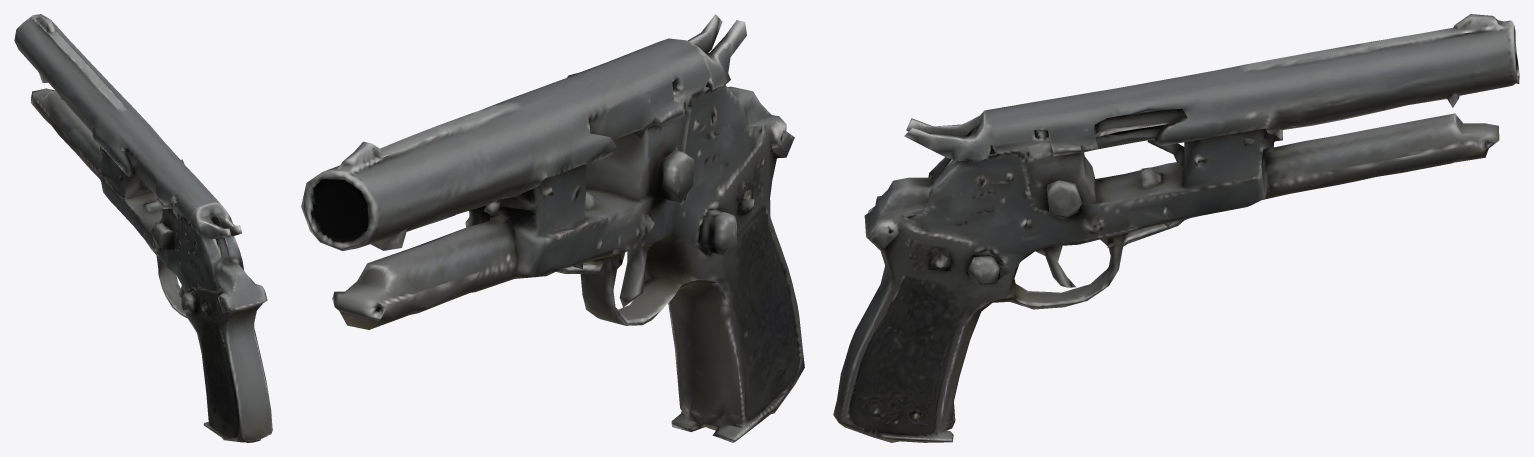
Rendered from gun_body_pistol.2a7234b27b.glb.
The picture shows the model from 3 angles, left to right: view 1: azimuth 30°, elevation 25°; view 2: azimuth 150°, elevation 25°; view 3: azimuth 270°, elevation 25°; orthographic projection. The views are drawn at different scales.
Parts seen in each view (by area): view 1: gun_body_pistol; view 2: gun_body_pistol; view 3: gun_body_pistol.
Boxes of the visible parts, x1=… form: gun_body_pistol: x1=14, y1=14, x2=272, y2=442; gun_body_pistol: x1=301, y1=14, x2=804, y2=442; gun_body_pistol: x1=833, y1=14, x2=1519, y2=442.
Bounding box in the file's own units: 0.025 × 0.1217 × 0.18.
1 material, 1 textured.
